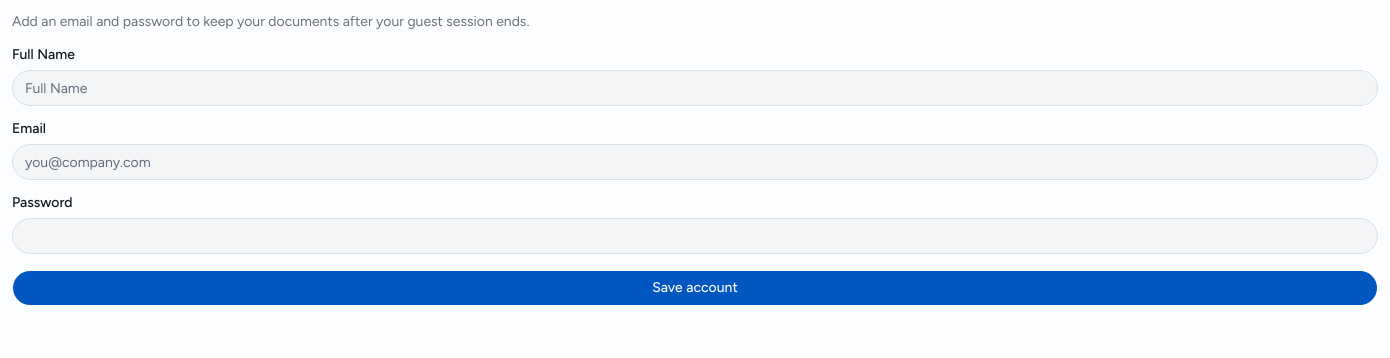
Test: SaveAccountForm › shows a root error when the action fails
Type "Ada Lovelace" into the field with placeholder "Full Name" at (695, 88), box x1=12 y1=70 x2=1378 y2=106
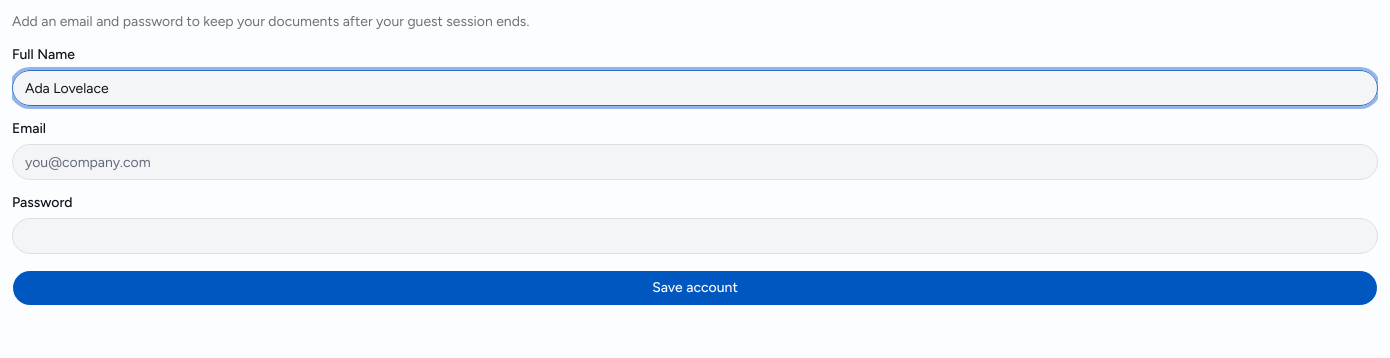
Type "guest@example.com" into the field labelled "Email" at (695, 162), box x1=12 y1=144 x2=1378 y2=180
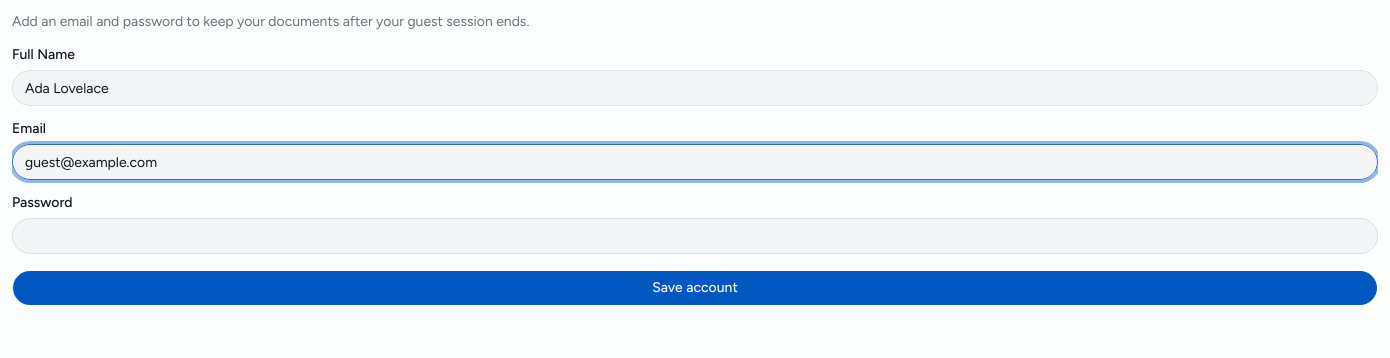
Type "supersecret" into the password field labelled "Password" at (695, 236), box x1=12 y1=218 x2=1378 y2=254
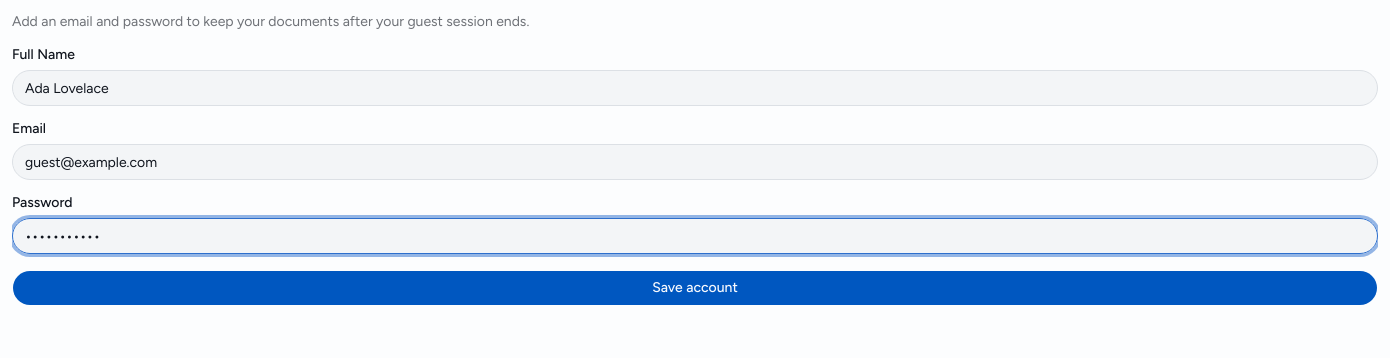
Click the submit button at (695, 288), box x1=12 y1=270 x2=1378 y2=306
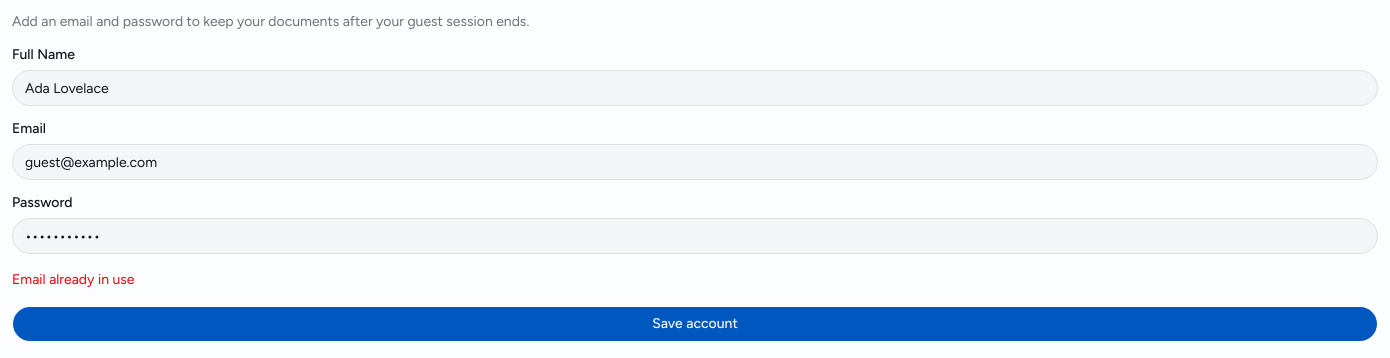
Expected: the message reads "Email already in use", x1=12 y1=271 x2=134 y2=288
